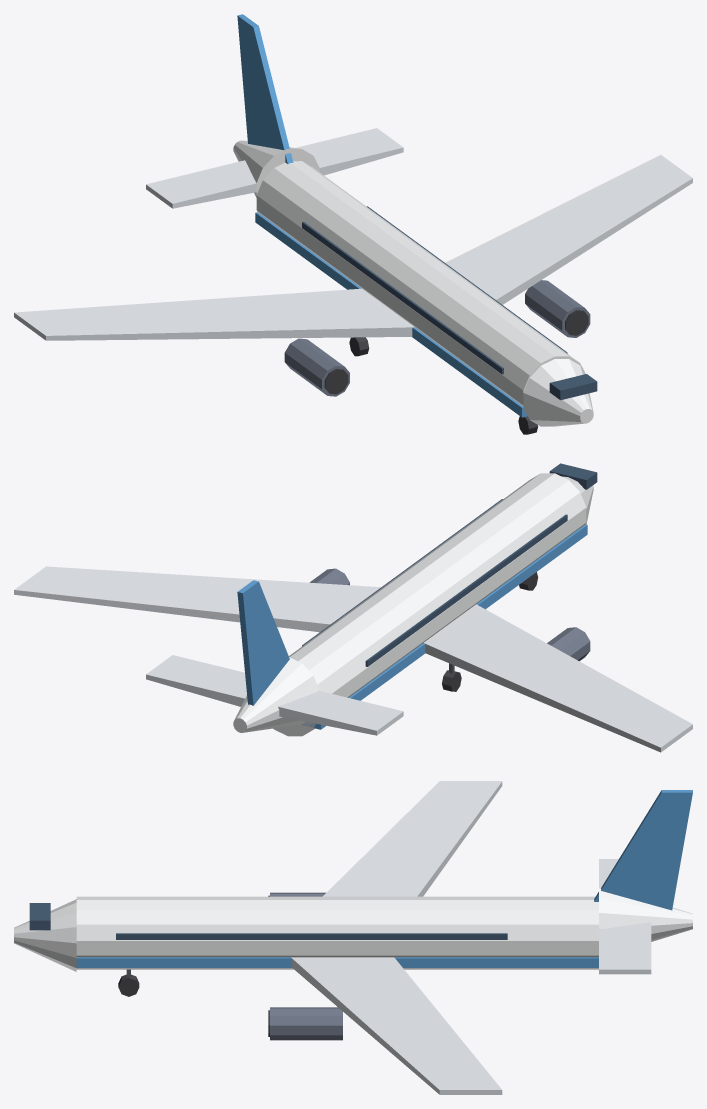
3 renders of one model, top to bottom at view 1: azimuth 30°, elevation 25°; view 2: azimuth 150°, elevation 25°; view 3: azimuth 270°, elevation 25°, orthographic. The views are drawn at different scales.
Parts seen in each view (by area): view 1: plane_body; view 2: plane_body; view 3: plane_body.
Part boxes in pixels (left/top/right/bottom): plane_body: left=14, top=14, right=692, bottom=434; plane_body: left=14, top=463, right=692, bottom=752; plane_body: left=14, top=781, right=692, bottom=1094.
Size of the model in its own units: 1.4 by 0.43 by 1.3.
